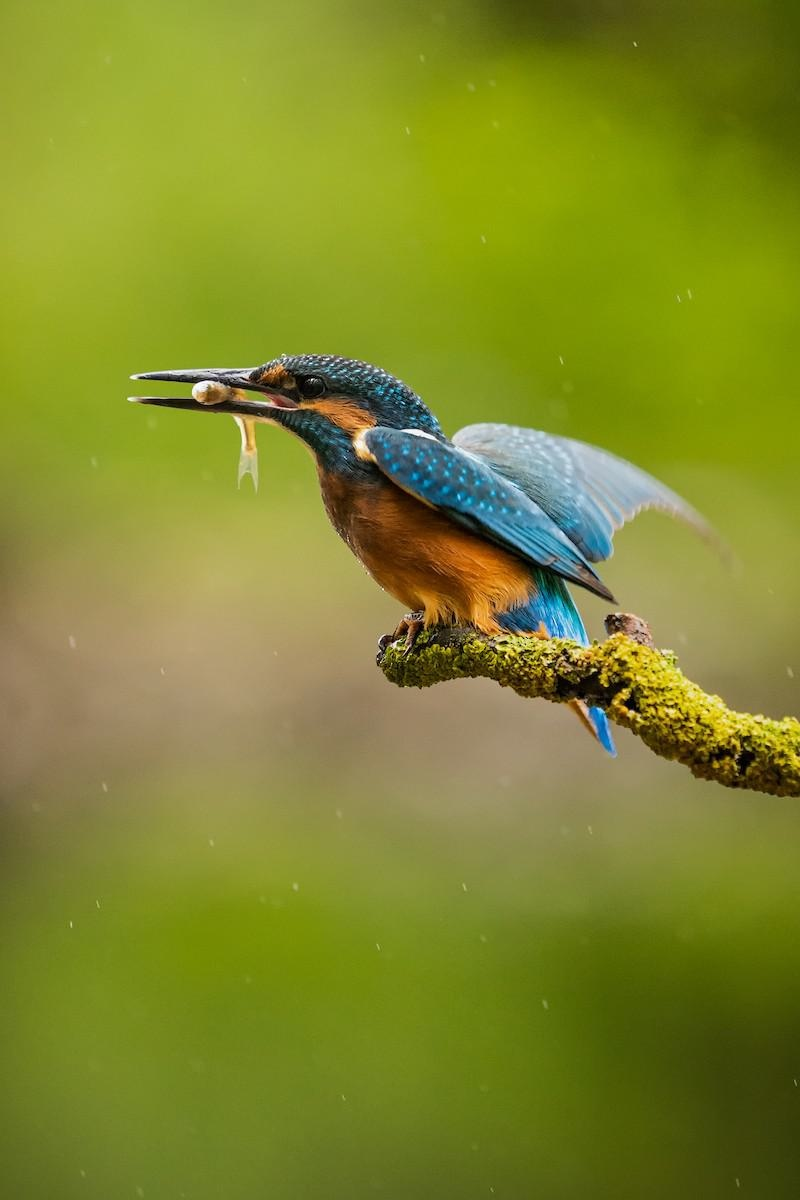kingfisher: (133, 350, 729, 805)
